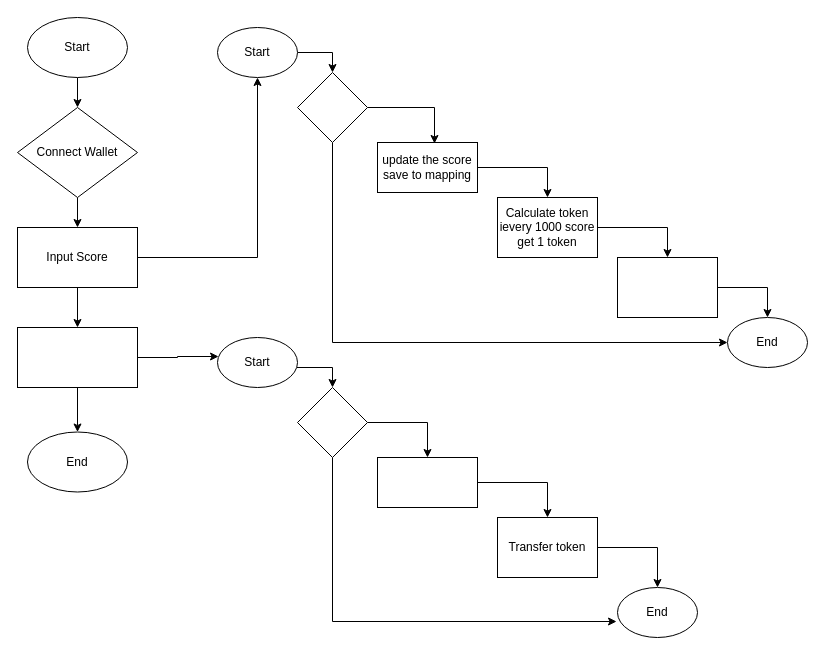
This 825x655 diagram has some shape labels left out. Here are the shapes that lost their labels. From the top down, the box of each, then its label:
(296, 72, 368, 142): Check Pointer
(616, 256, 718, 318): save the token in mapping
(16, 326, 138, 388): Claim all token
(296, 386, 368, 458): Check Supply
(376, 456, 478, 508): Update token from mapping
